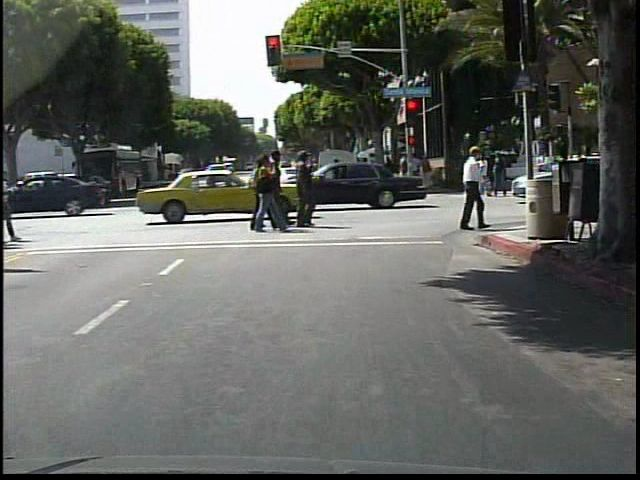person: (452, 142, 495, 235)
